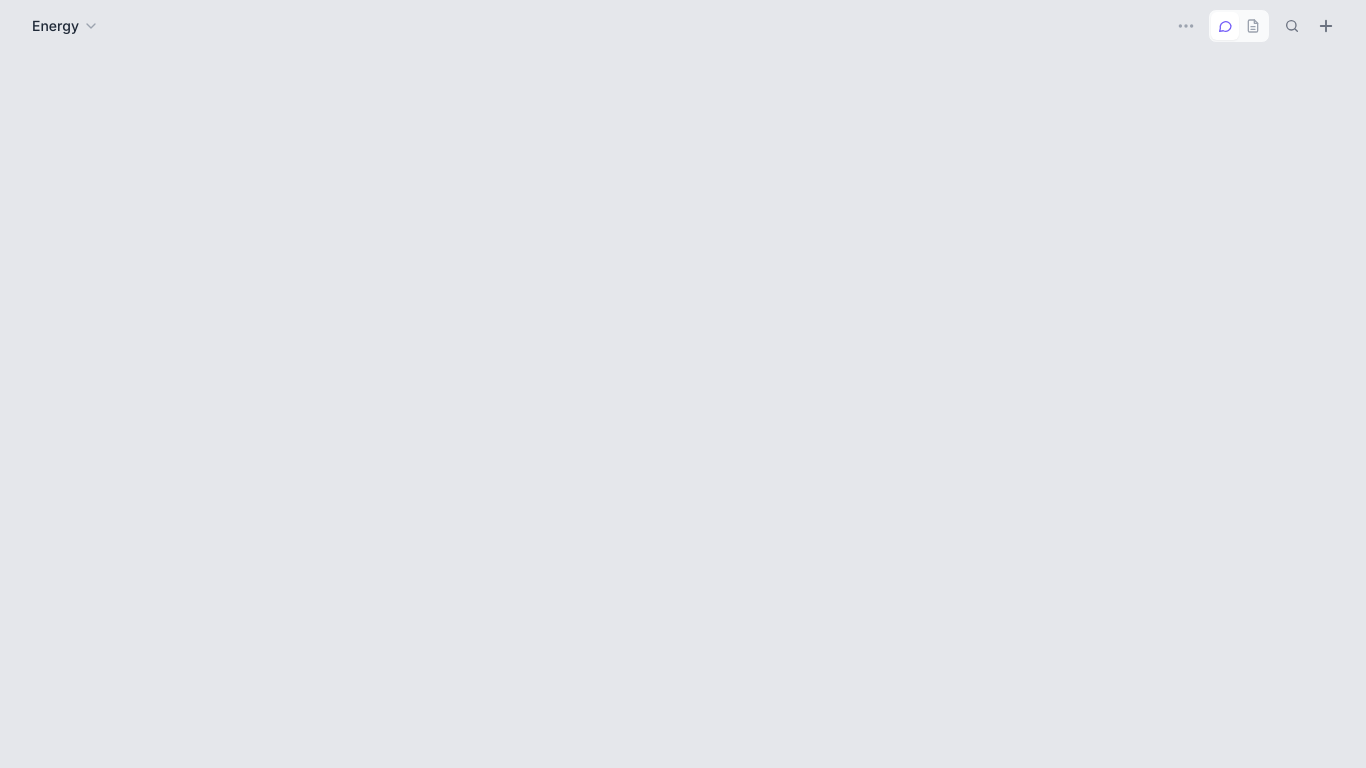
it: AskThreadBar › filters by title and says when nothing matches
Click the button with test id "ask-title" at (66,26), box [24,9,107,43]
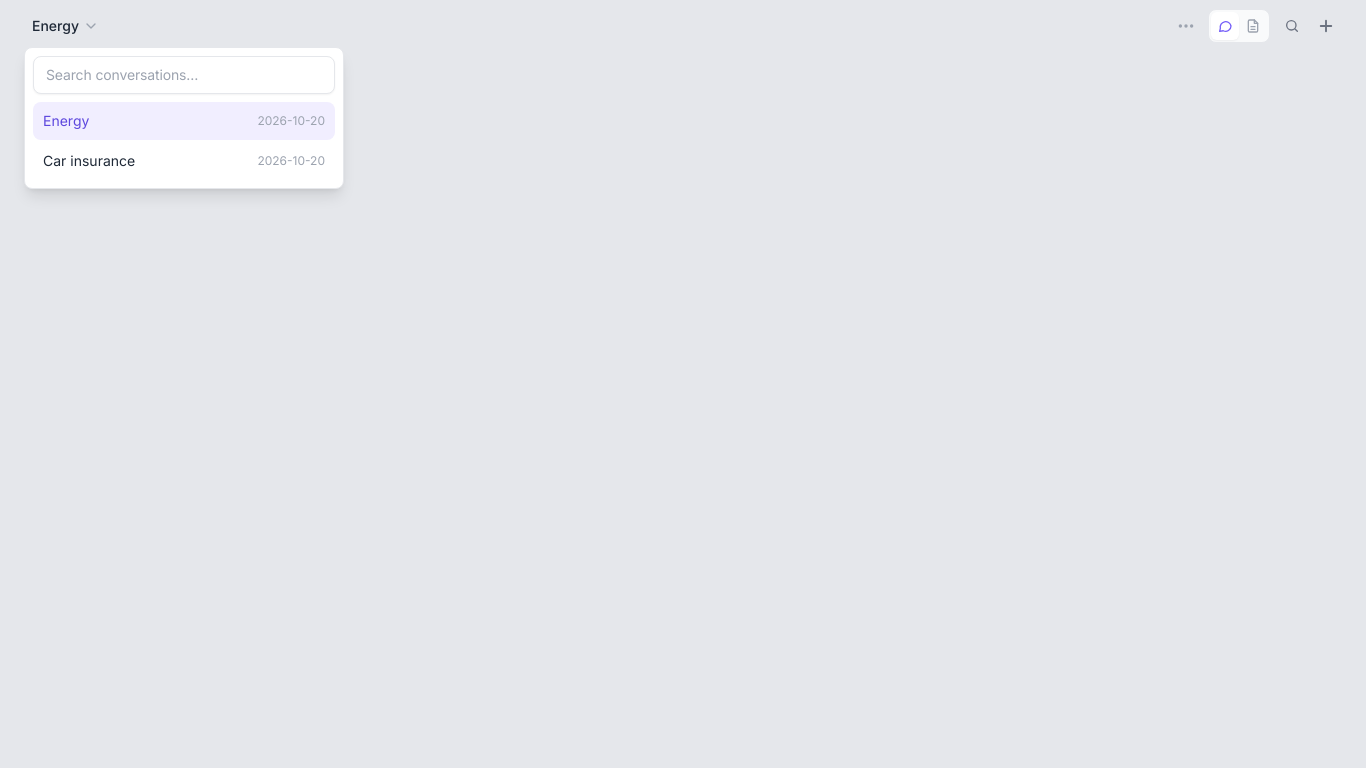
Type "car" into the search field with test id "thread-search" at (184,75), box [33,56,335,94]
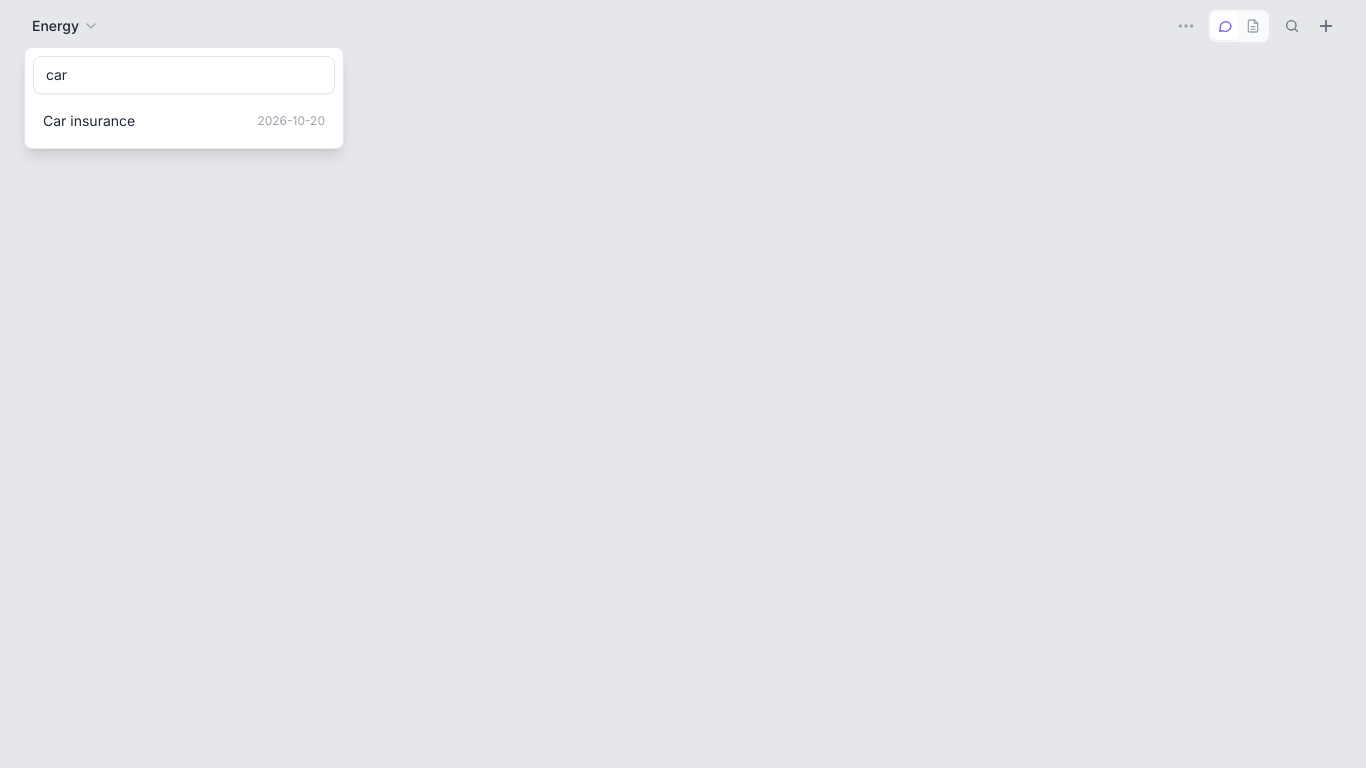
Now the number of buttons with test id "thread-item" is 1, box [33,102,335,140]
Replace the text in the search field with test id "thread-search" with "zzz" at (184,75), box [33,56,335,94]
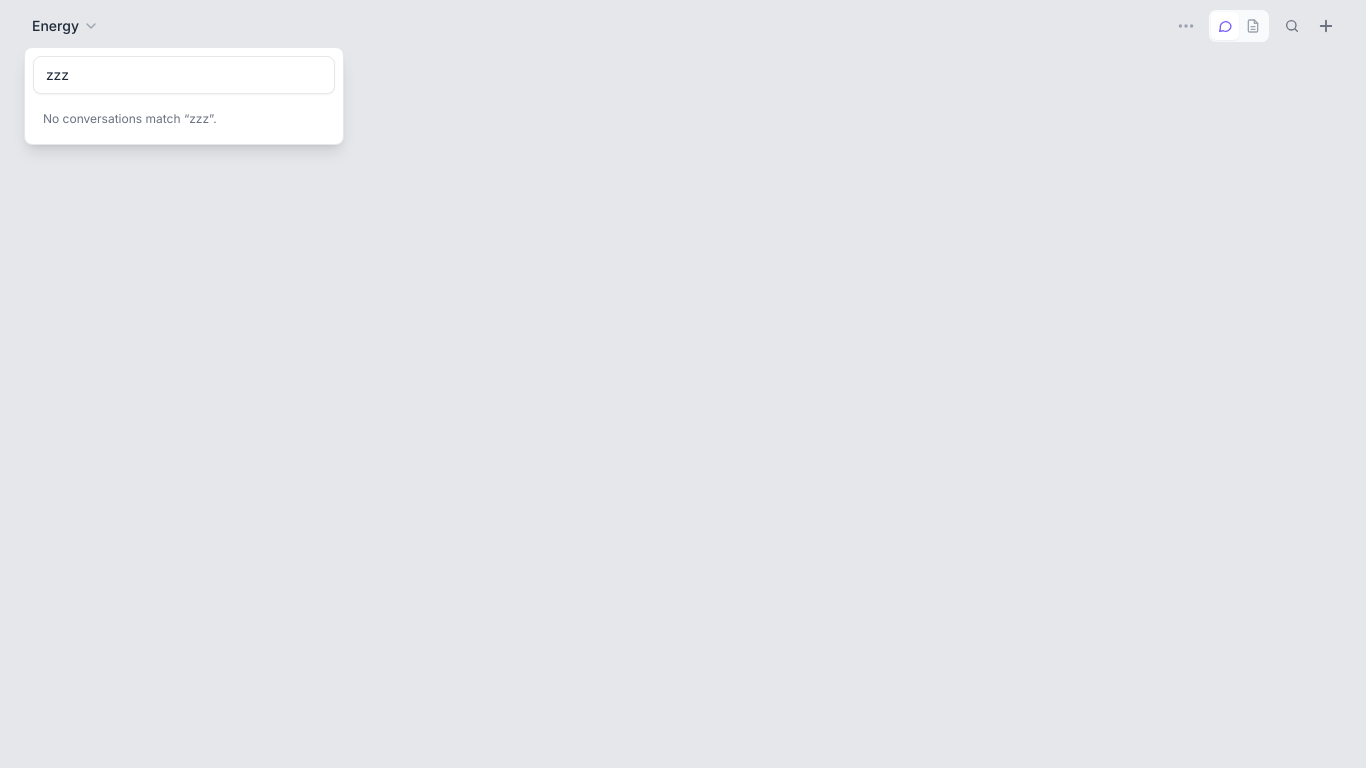
Now the text with test id "thread-search-empty" shows "zzz", box [43,111,217,126]
